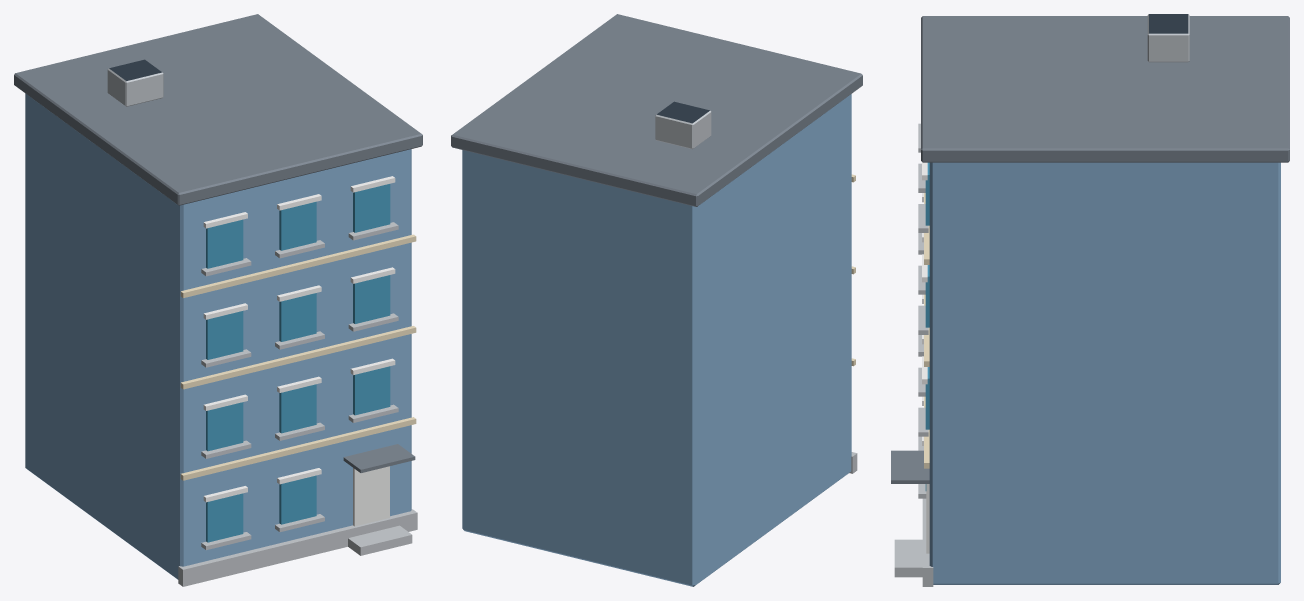
Rendered from townhouse_c.fbx.
3 views of the same model, side by side, from view 1: azimuth 30°, elevation 25°; view 2: azimuth 150°, elevation 25°; view 3: azimuth 270°, elevation 25° (orthographic). The views are drawn at different scales.
Visible parts, largest first — view 1: townhouse_c; view 2: townhouse_c; view 3: townhouse_c.
Part boxes in pixels (x1,y1,x2,y2): townhouse_c: [14, 14, 422, 586]; townhouse_c: [451, 14, 862, 586]; townhouse_c: [891, 14, 1289, 586].
Size of the model in its own units: 9 by 14.75 by 11.35.
